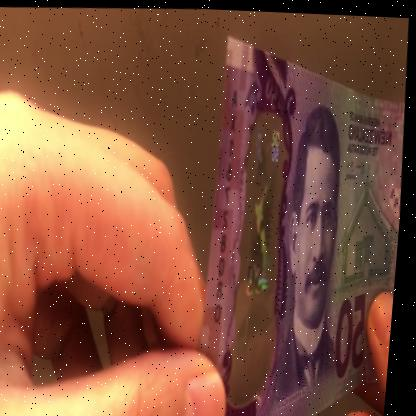50F: (233, 118, 297, 375)
